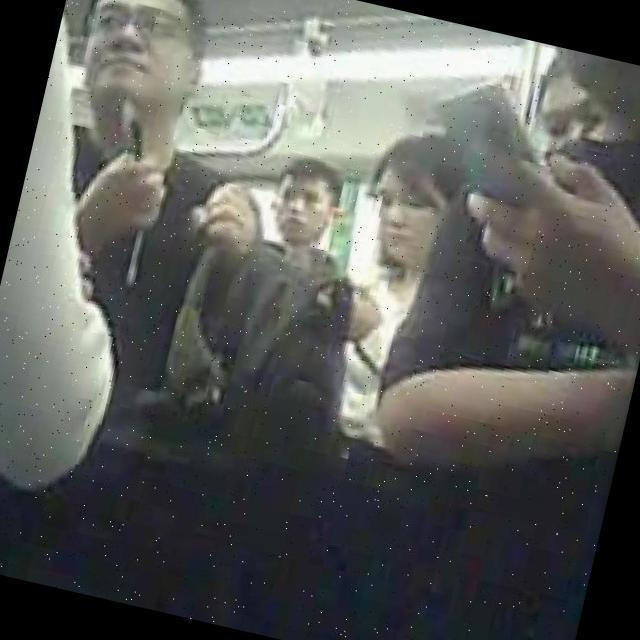person: (0, 0, 317, 615), (329, 25, 640, 640), (0, 0, 214, 590), (307, 124, 482, 476), (212, 148, 366, 428)
